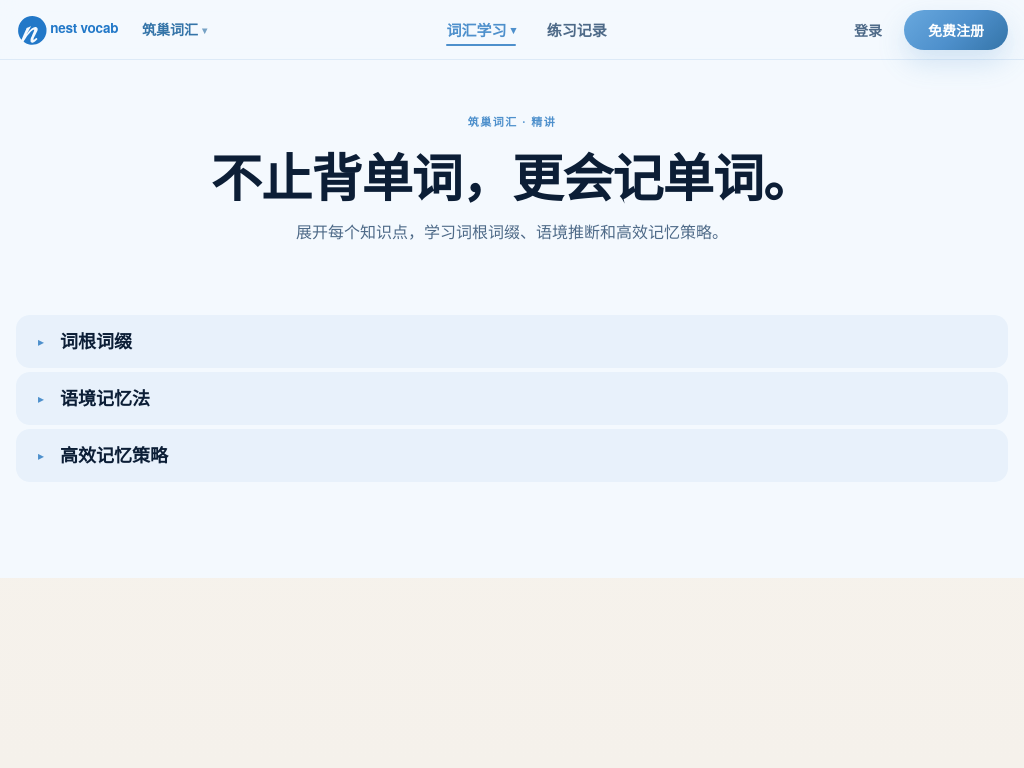
VocabCoursesPage › expands a top-level node to show its children
Click the button "▸ 词根词缀".
click(96, 341)  # box [16, 315, 1008, 368]
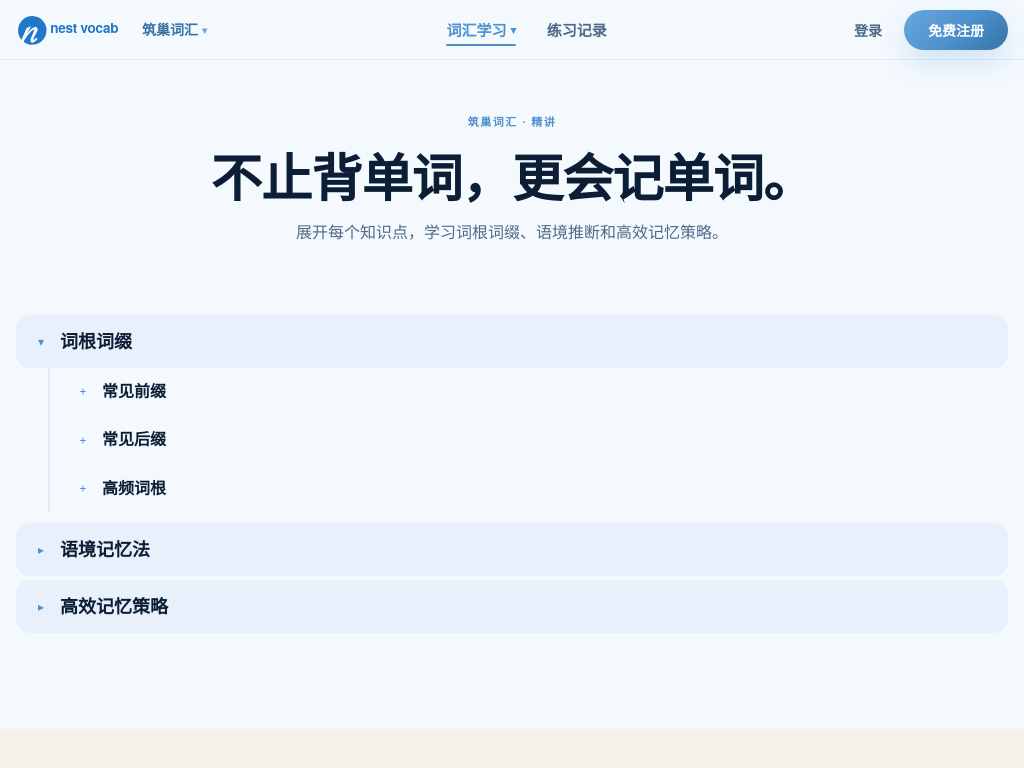
expect the text "常见前缀" is shown: met, box [102, 380, 166, 402]
